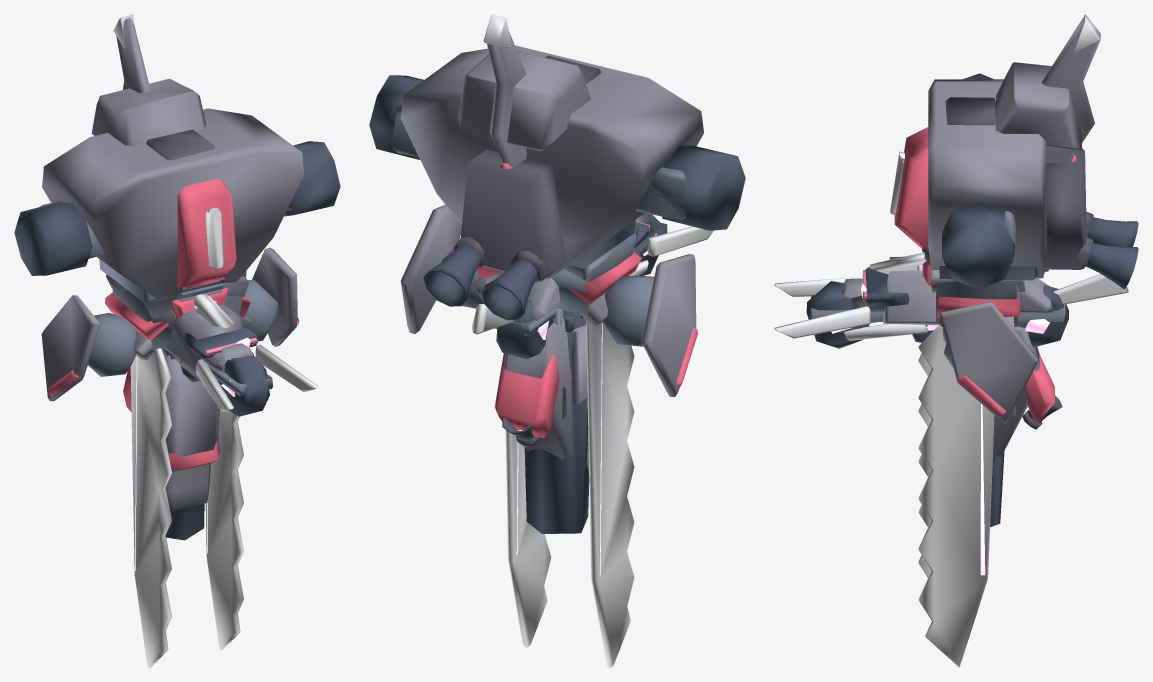
Rendered from razor-lod1.glb.
3 views of the same model, side by side, from view 1: azimuth 30°, elevation 25°; view 2: azimuth 150°, elevation 25°; view 3: azimuth 270°, elevation 25° (orthographic). The views are drawn at different scales.
Visible parts, largest first — view 1: chest/P, elR/T, chest/D, elL/T, hips/P, hips/K, chest/S, hipL/P, head/P, ankleL/D, ankleL/T, kneeL/P (+12 smaller); view 2: chest/P, elR/T, chest/D, chest/F, hips/P, hipL/D, elL/T, hips/K, kneeL/P, kneeL/S, chest/K, wingL/P (+7 smaller); view 3: chest/P, elL/T, chest/D, hips/P, chest/F, ankleL/T, chest/S, wingL/P, ankleL/D, head/P, hips/K, kneeL/P (+12 smaller).
Boxes of the visible parts, left/top/right/bottom form: chest/P: left=42, top=78, right=303, bottom=310; elR/T: left=130, top=348, right=171, bottom=667; chest/D: left=14, top=141, right=340, bottom=299; elL/T: left=205, top=409, right=243, bottom=650; hips/P: left=41, top=247, right=297, bottom=401; hips/K: left=88, top=280, right=279, bottom=376; chest/S: left=176, top=178, right=236, bottom=289; hipL/P: left=162, top=348, right=219, bottom=471; head/P: left=163, top=304, right=252, bottom=376; ankleL/D: left=180, top=356, right=269, bottom=416; ankleL/T: left=196, top=344, right=318, bottom=411; kneeL/P: left=166, top=353, right=210, bottom=510; chest/P: left=400, top=45, right=703, bottom=278; elR/T: left=586, top=321, right=634, bottom=667; chest/D: left=369, top=75, right=745, bottom=320; chest/F: left=453, top=55, right=601, bottom=282; hips/P: left=400, top=205, right=696, bottom=396; hipL/D: left=524, top=310, right=589, bottom=533; elL/T: left=505, top=430, right=551, bottom=647; hips/K: left=441, top=232, right=654, bottom=346; kneeL/P: left=504, top=318, right=588, bottom=472; kneeL/S: left=494, top=353, right=559, bottom=437; chest/K: left=391, top=105, right=686, bottom=268; wingL/P: left=487, top=31, right=526, bottom=167; chest/P: left=928, top=62, right=1081, bottom=278; elL/T: left=918, top=324, right=994, bottom=667; chest/D: left=922, top=73, right=1138, bottom=289; hips/P: left=939, top=301, right=1037, bottom=423; chest/F: left=945, top=97, right=1093, bottom=269; ankleL/T: left=774, top=274, right=1128, bottom=338; chest/S: left=894, top=127, right=1076, bottom=251; wingL/P: left=1041, top=18, right=1100, bottom=271; ankleL/D: left=806, top=281, right=1068, bottom=348; head/P: left=840, top=256, right=939, bottom=324; hips/K: left=936, top=281, right=1019, bottom=367; kneeL/P: left=992, top=326, right=1039, bottom=463.
Size of the model in its own units: 3.07 by 6.01 by 3.14.
